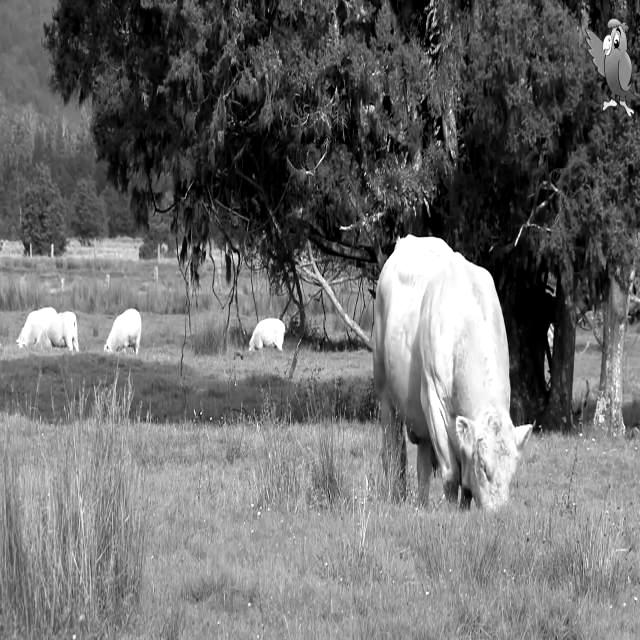COW: (374, 235, 531, 509)
